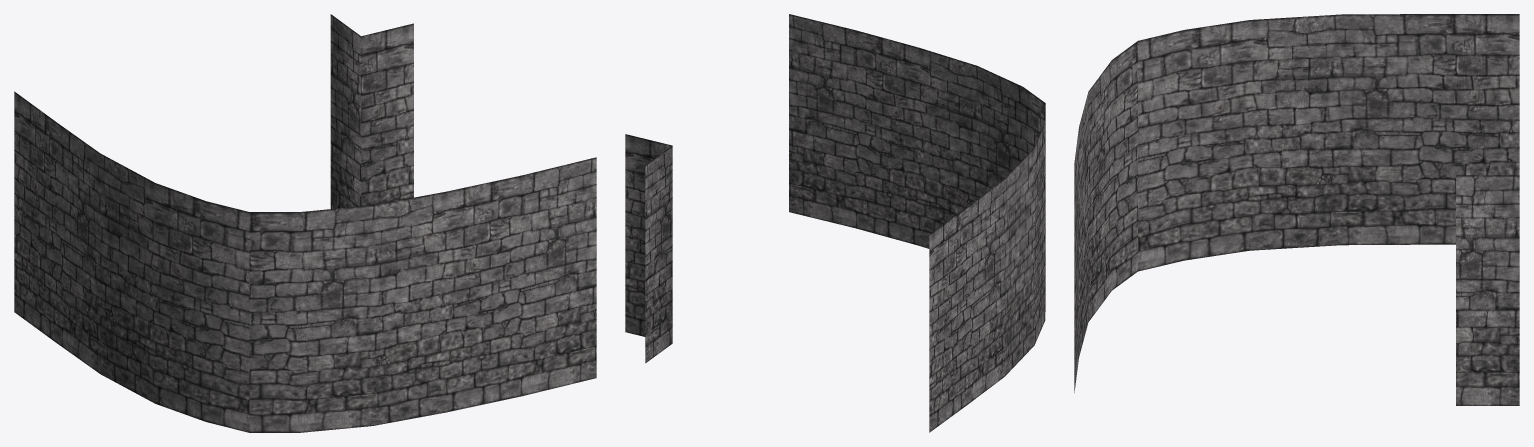
File: crypt_stair_wall_00.FBX
3 renders of one model, left to right at view 1: azimuth 30°, elevation 25°; view 2: azimuth 150°, elevation 25°; view 3: azimuth 270°, elevation 25°, orthographic. The views are drawn at different scales.
Parts seen in each view (by area): view 1: Box06; view 2: Box06; view 3: Box06.
Part boxes in pixels (x1,y1,x2,y2): Box06: [14, 14, 596, 432]; Box06: [625, 14, 1045, 432]; Box06: [1074, 14, 1519, 405].
Bounding box in the file's own units: 448 × 448 × 256.
